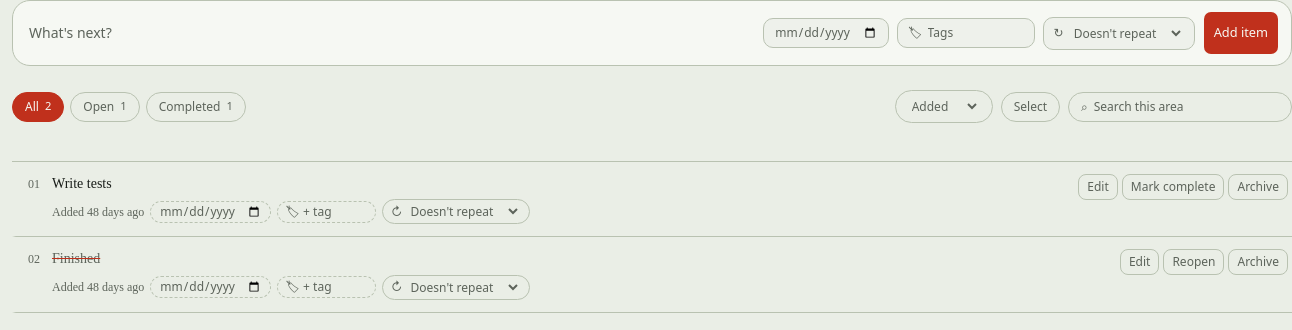
Test case: TaskWorkspace › filters tasks and displays live counts
The width and height of the screenshot is (1292, 330).
Expected: the button "Open 1" is shown, [70,92,140,122]
Step 1. Click the button "Completed 1" → [196, 106], box [146,92,246,122]
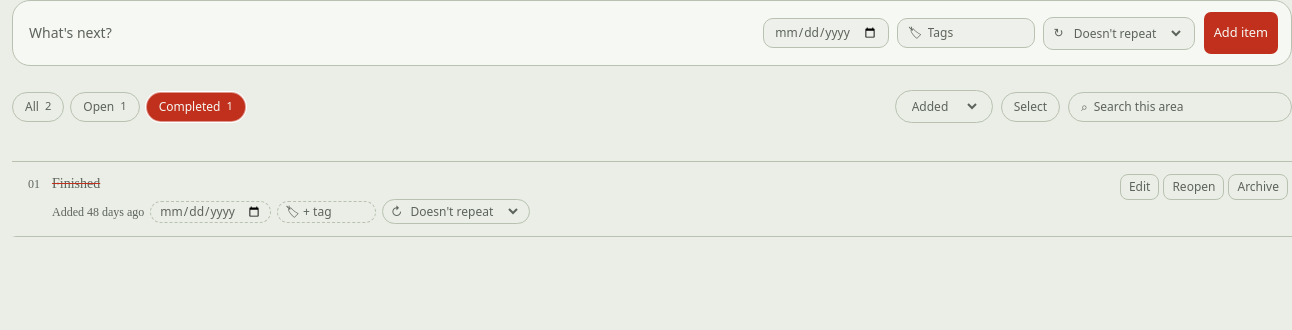
Expected: the link "Finished" is shown, [52,176,100,191]
Now the link "Write tests" is gone
